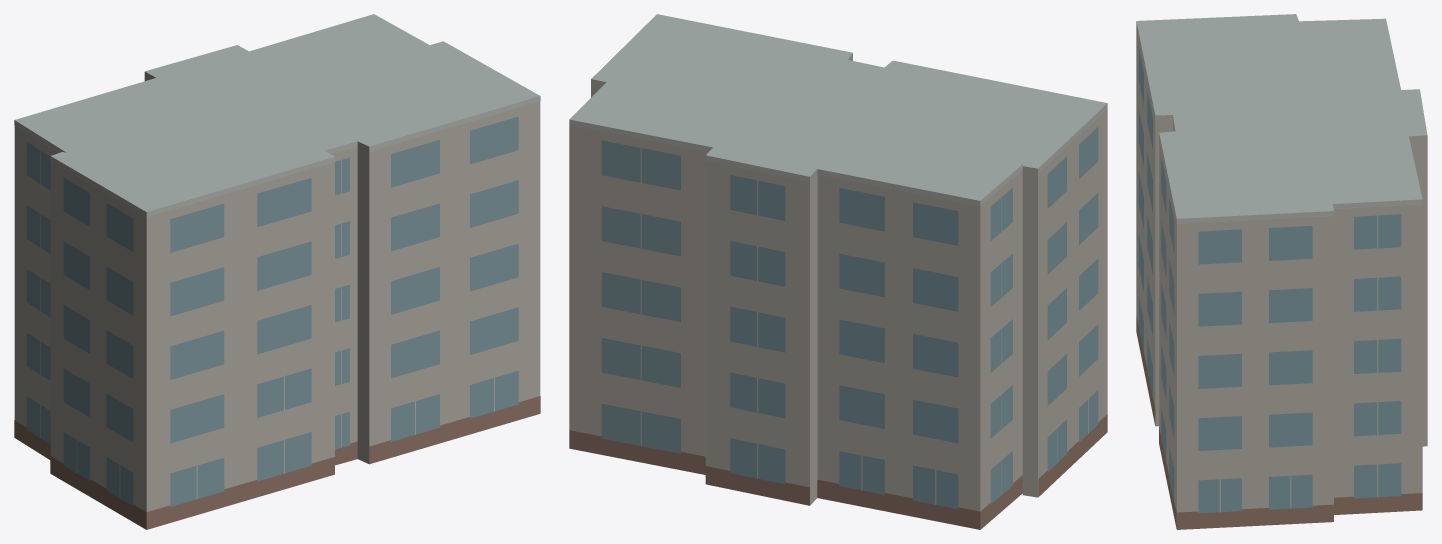
File: survey-upis-32664193.glb
3 views of the same model, side by side, from view 1: azimuth 30°, elevation 25°; view 2: azimuth 150°, elevation 25°; view 3: azimuth 270°, elevation 25° (orthographic). The views are drawn at different scales.
Visible parts, largest first — view 1: survey-upis-32664193.tmp; view 2: survey-upis-32664193.tmp; view 3: survey-upis-32664193.tmp.
Boxes of the visible parts, left/top/right/bottom form: survey-upis-32664193.tmp: left=14, top=14, right=540, bottom=529; survey-upis-32664193.tmp: left=569, top=14, right=1107, bottom=529; survey-upis-32664193.tmp: left=1136, top=14, right=1427, bottom=529.
Size of the model in its own units: 20.78 by 14.7 by 12.48.
